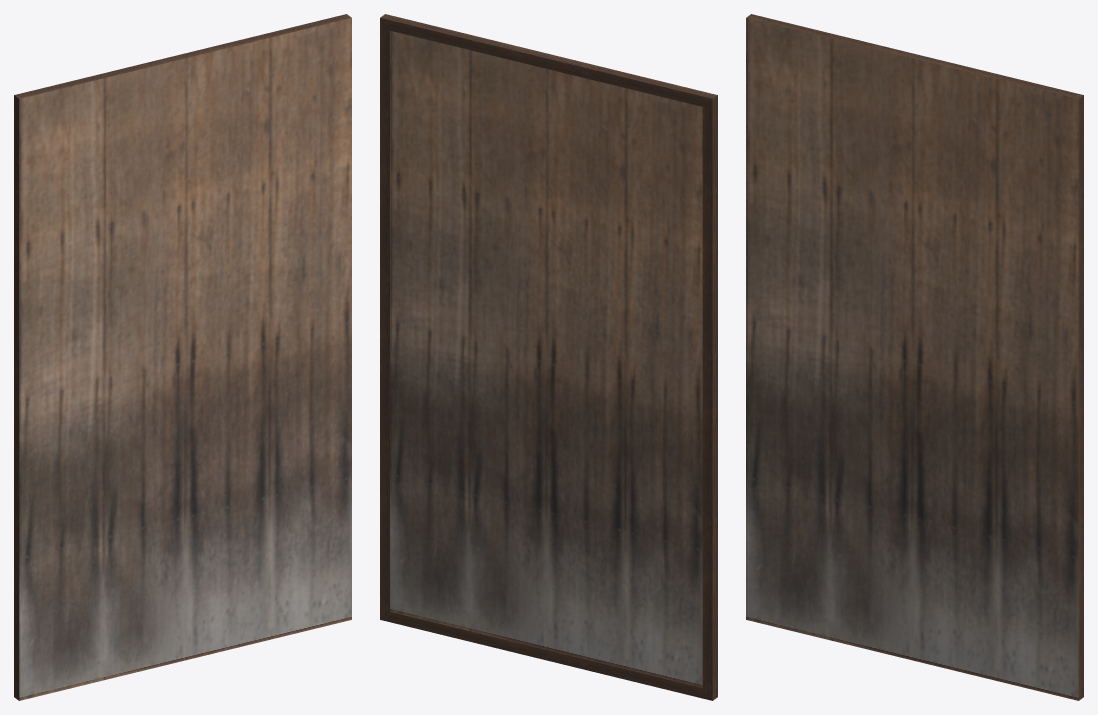
File: amado_a.fbx
3 views of the same model, side by side, from view 1: azimuth 30°, elevation 25°; view 2: azimuth 150°, elevation 25°; view 3: azimuth 330°, elevation 25° (orthographic).
Visible parts, largest first — view 1: amado_a; view 2: amado_a; view 3: amado_a.
Part boxes in pixels (x1,y1,x2,y2): amado_a: (14,14,351,700); amado_a: (380,14,717,700); amado_a: (746,14,1083,700).
Bounding box in the file's own units: 80.62 × 139 × 2.17.
